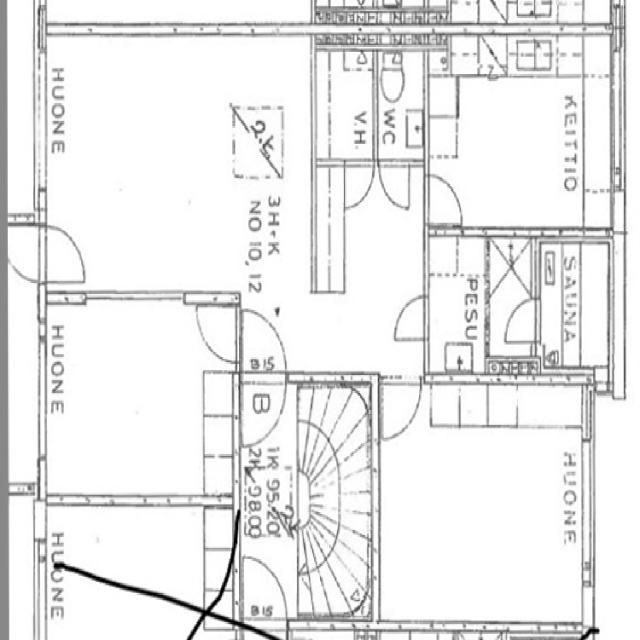door: (237, 550, 288, 636), (237, 304, 288, 376), (192, 300, 242, 368), (43, 220, 91, 290), (379, 374, 424, 445), (424, 168, 467, 231), (386, 288, 430, 346), (501, 292, 543, 348), (376, 159, 416, 215), (341, 160, 376, 212)
window: (30, 322, 53, 467), (84, 282, 188, 314)
zone: (37, 31, 286, 302), (43, 300, 237, 503), (426, 42, 619, 236), (38, 501, 230, 622), (535, 236, 613, 376), (424, 232, 490, 378), (299, 496, 374, 618), (296, 378, 376, 482), (313, 44, 376, 164), (375, 46, 425, 163), (237, 551, 286, 634), (485, 382, 519, 429)
